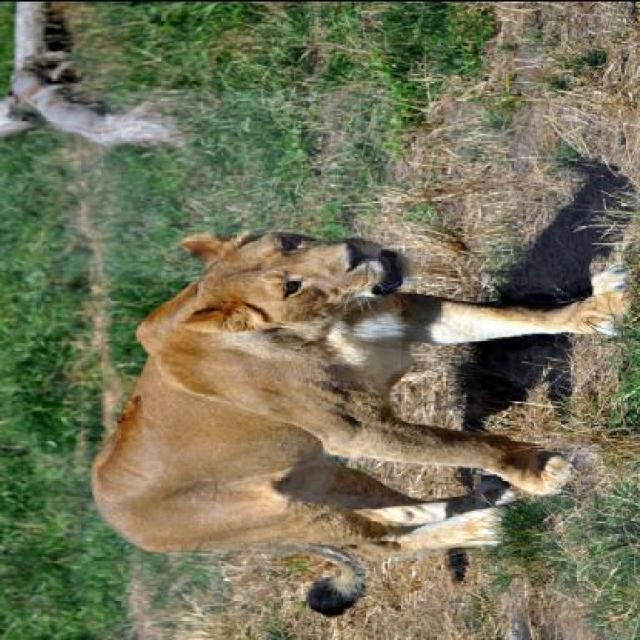Lion: (68, 183, 634, 625)
